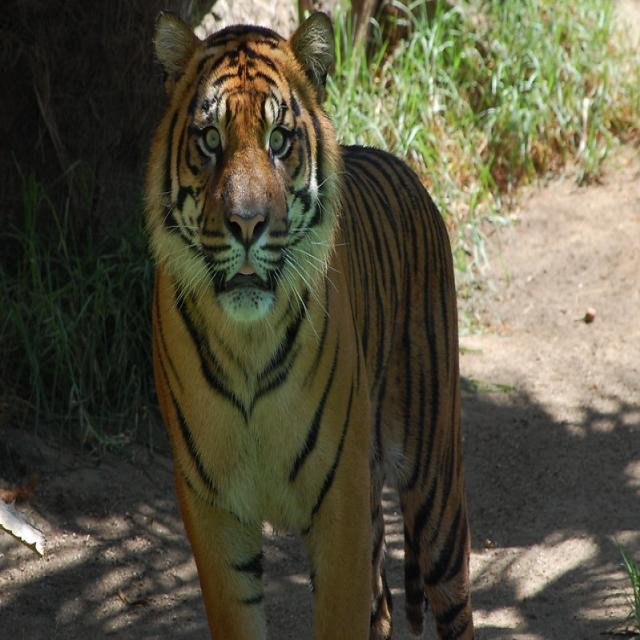Tiger: (132, 0, 480, 634)
